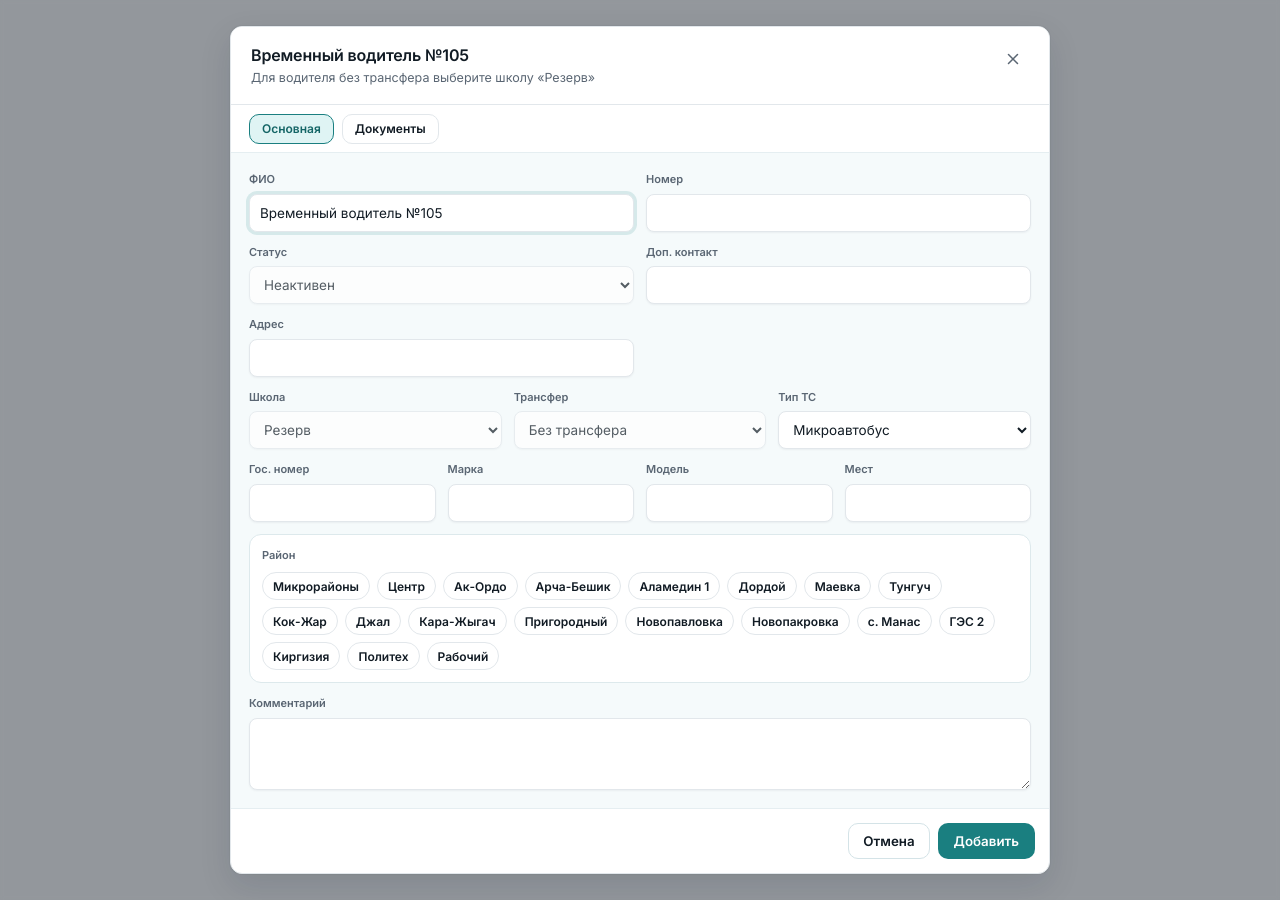
Test: prefills the shared server number once in StrictMode and allows editing it
Replace the text in the field labelled "ФИО" with "Адилет" at (442, 213), box [249,194,634,232]
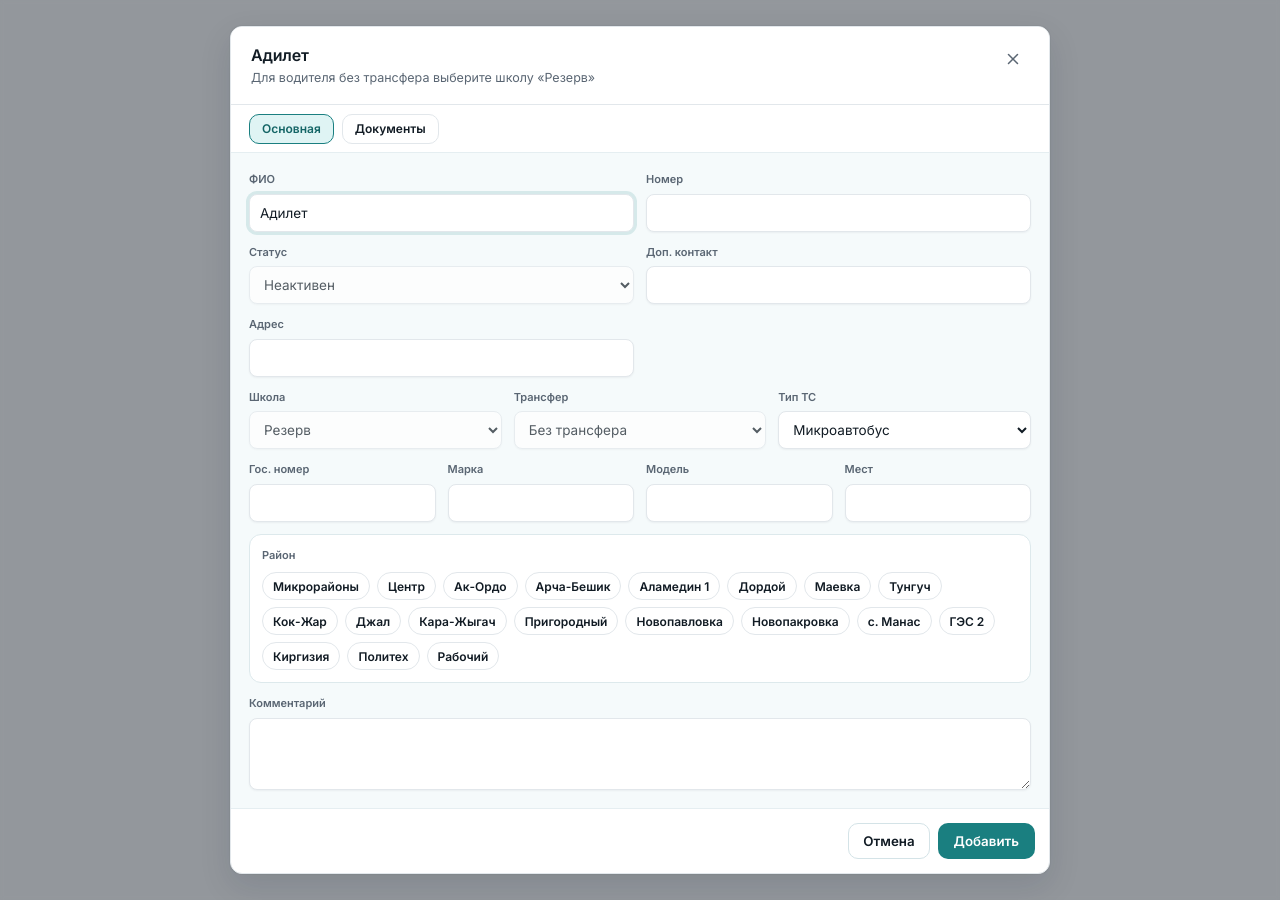
Expected: the heading "Адилет" is shown, [251,45,309,65]
